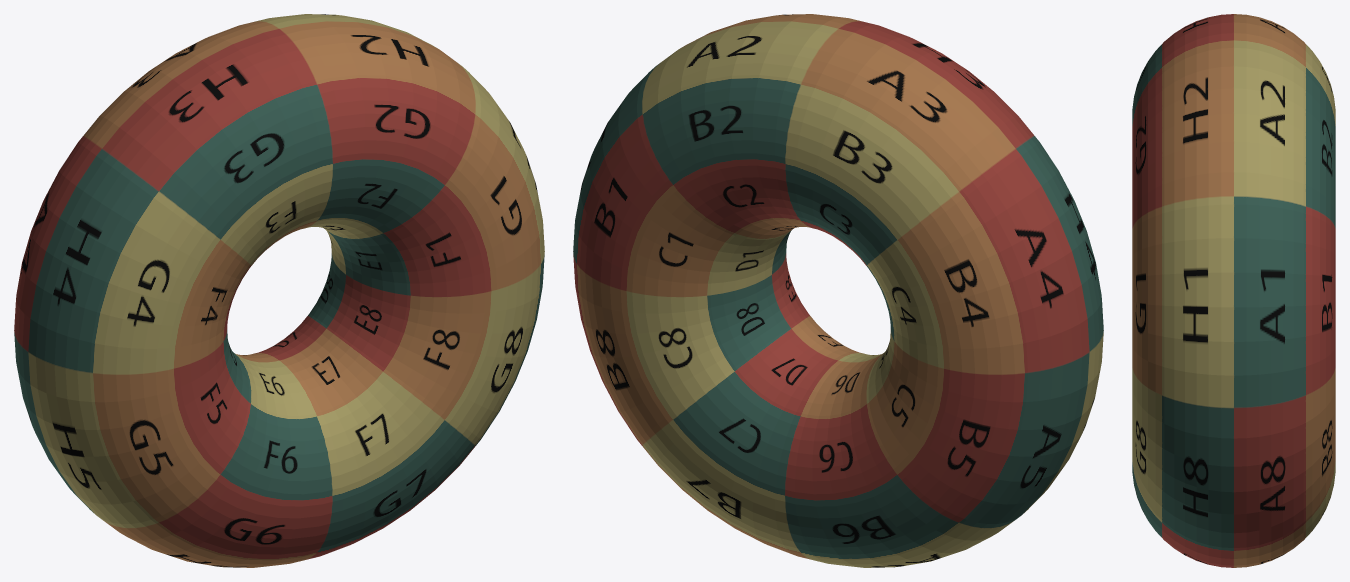
Rendered from texture_torus_R6_r23.glb.
3 renders of one model, left to right at view 1: azimuth 30°, elevation 25°; view 2: azimuth 150°, elevation 25°; view 3: azimuth 270°, elevation 25°, orthographic. The views are drawn at different scales.
Visible parts, largest first — view 1: world; view 2: world; view 3: world.
Part boxes in pixels (box(x1,y1,x2,y2)): world: box(14, 14, 544, 567); world: box(573, 14, 1103, 567); world: box(1132, 14, 1335, 567).
Size of the model in its own units: 22.13 by 22.09 by 8.12.
Materials: 1 (1 with a texture image).
